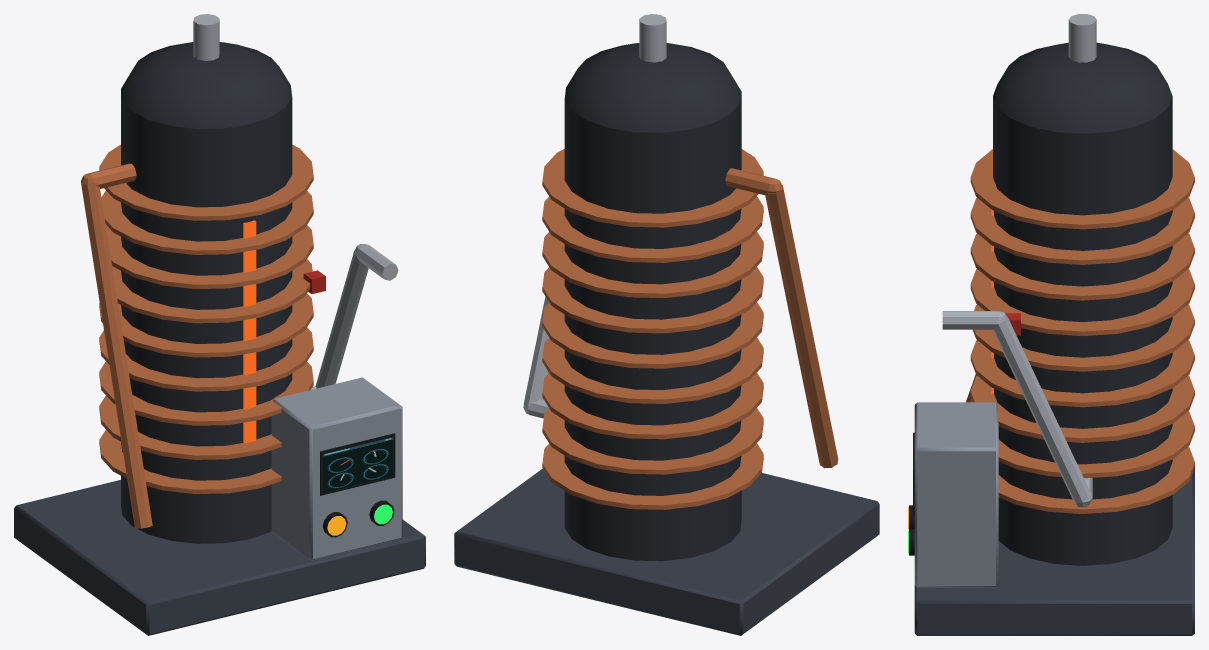
File: scrubber_sabatier_reactor.glb
The picture shows the model from 3 angles, left to right: view 1: azimuth 30°, elevation 25°; view 2: azimuth 150°, elevation 25°; view 3: azimuth 270°, elevation 25°; orthographic projection. The views are drawn at different scales.
Visible parts, largest first — view 1: scrubber_sabatier_reactor; view 2: scrubber_sabatier_reactor; view 3: scrubber_sabatier_reactor.
Part boxes in pixels (left/top/right/bottom): scrubber_sabatier_reactor: left=14, top=14, right=425, bottom=635; scrubber_sabatier_reactor: left=454, top=14, right=879, bottom=635; scrubber_sabatier_reactor: left=908, top=14, right=1194, bottom=635.
Size of the model in its own units: 1.2 by 2.15 by 1.02.
Materials: 11 (1 with a texture image).
